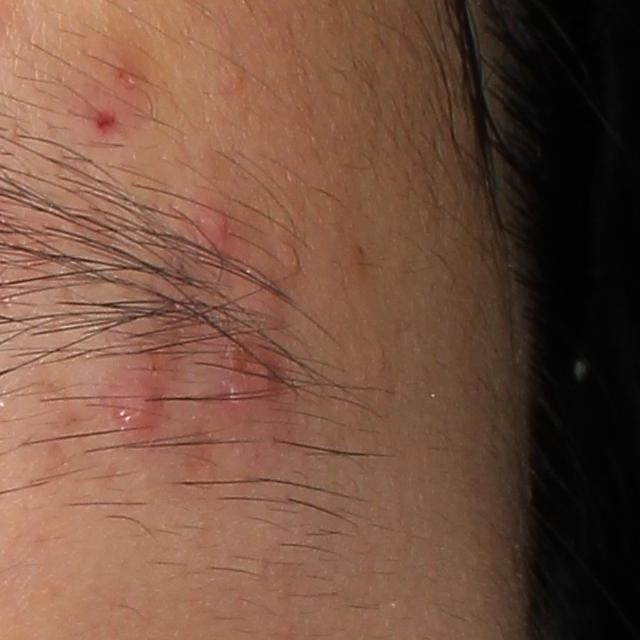papule: (110, 371, 164, 444), (238, 349, 284, 408)
